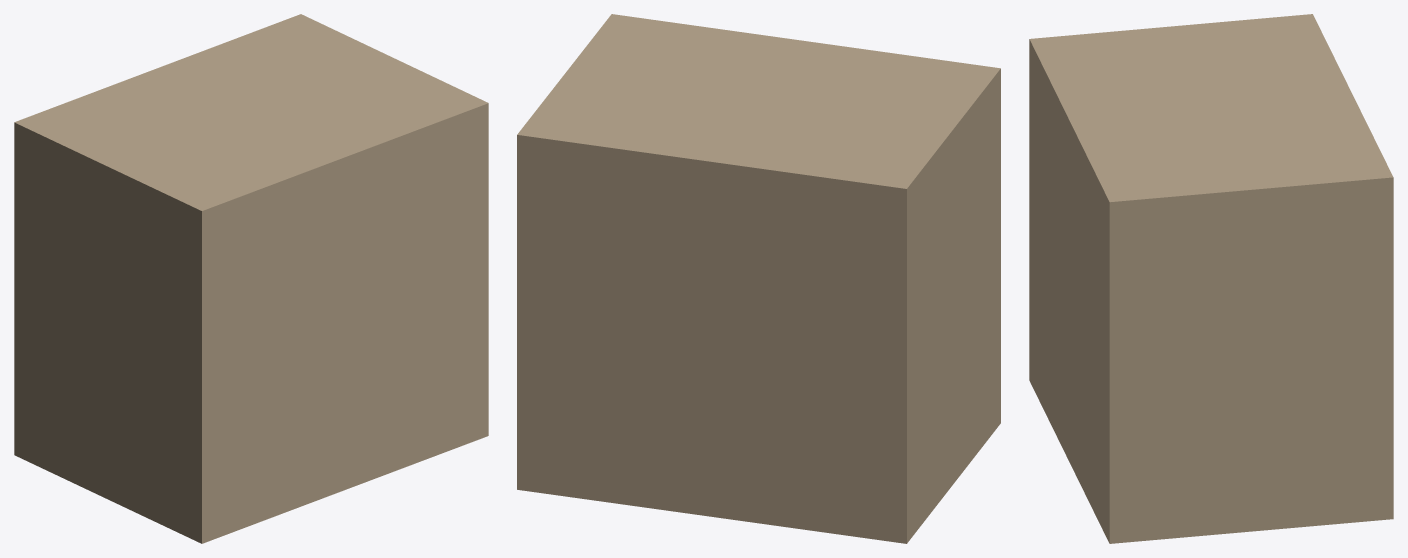
Rendered from bld_99872264.dae.
The picture shows the model from 3 angles, left to right: view 1: azimuth 30°, elevation 25°; view 2: azimuth 150°, elevation 25°; view 3: azimuth 270°, elevation 25°; orthographic projection. The views are drawn at different scales.
Parts seen in each view (by area): view 1: bld_99872264; view 2: bld_99872264; view 3: bld_99872264.
Part boxes in pixels (x1,y1,x2,y2): bld_99872264: (14,14,488,543); bld_99872264: (517,14,1000,543); bld_99872264: (1029,14,1393,543).
Size of the model in its own units: 9.45 by 7.72 by 8.
